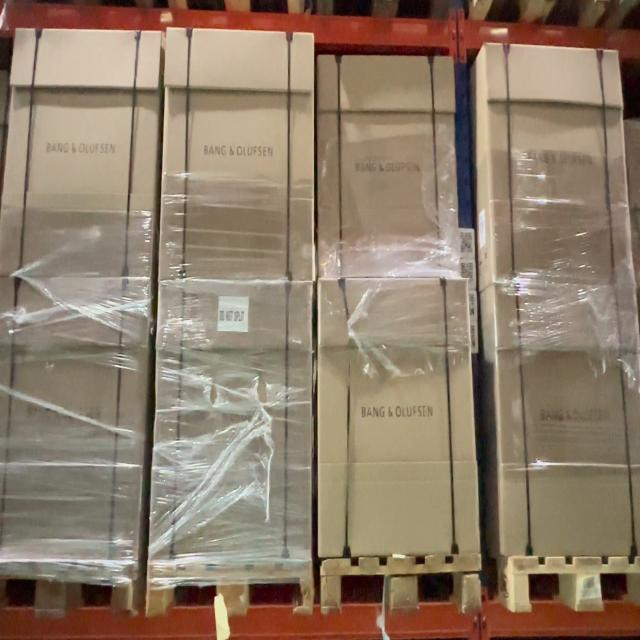box: (150, 278, 312, 564), (319, 276, 479, 564), (158, 29, 314, 282), (486, 45, 634, 282), (318, 52, 461, 283)
